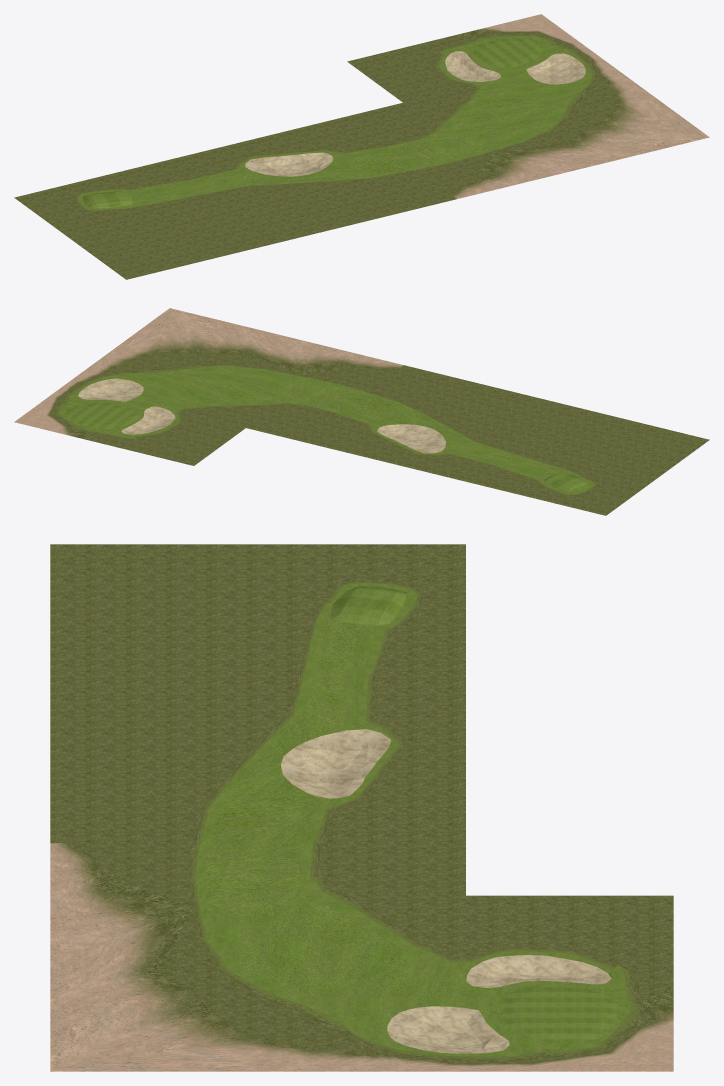
The model's file is vegasgolfcrs08.obj.
The picture shows the model from 3 angles, top to bottom: view 1: azimuth 30°, elevation 25°; view 2: azimuth 150°, elevation 25°; view 3: azimuth 270°, elevation 25°; orthographic projection. The views are drawn at different scales.
Parts seen in each view (by area): view 1: vegasgolfcrs08; view 2: vegasgolfcrs08; view 3: vegasgolfcrs08.
Boxes of the visible parts, x1=… form: vegasgolfcrs08: x1=14, y1=14, x2=709, y2=279; vegasgolfcrs08: x1=14, y1=308, x2=709, y2=515; vegasgolfcrs08: x1=50, y1=544, x2=673, y2=1071.
Bounding box in the file's own units: 120 × 1.27 × 60.
8 materials, 8 textured.
